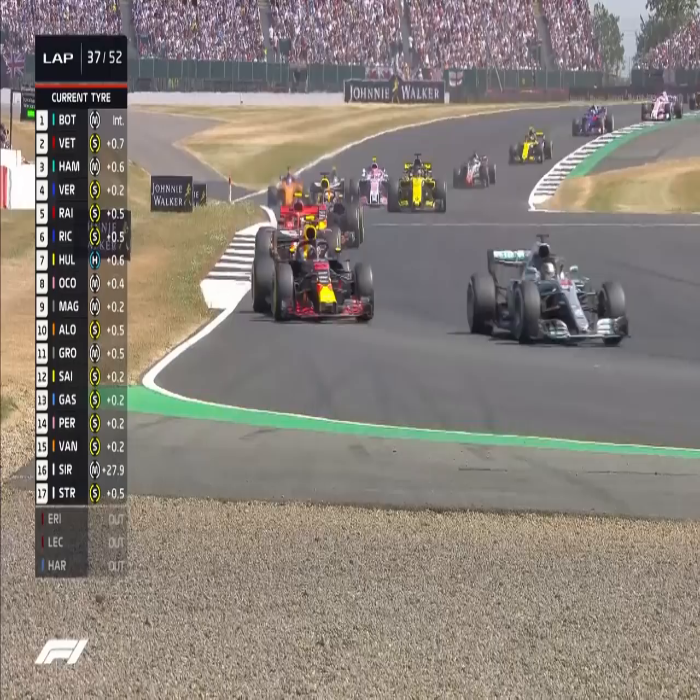f1_car: (461, 230, 636, 358), (245, 236, 386, 323), (391, 161, 448, 218), (565, 103, 624, 141), (506, 129, 557, 169), (453, 152, 502, 193), (636, 86, 688, 122)
